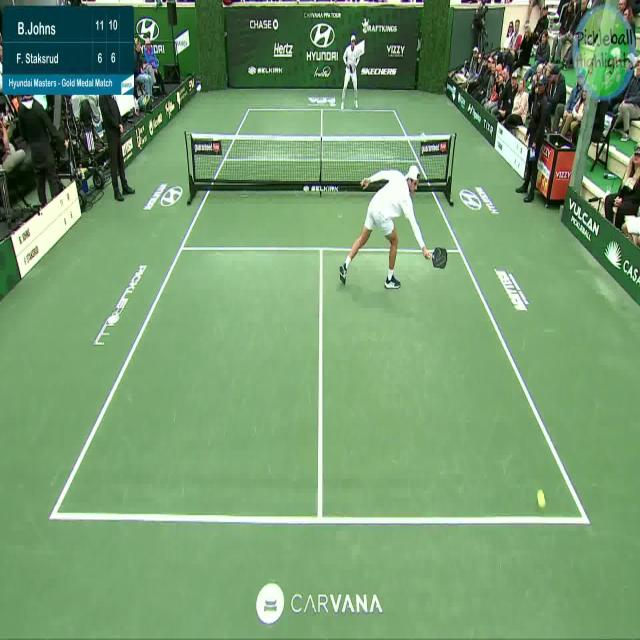ball: (536, 490, 547, 510)
